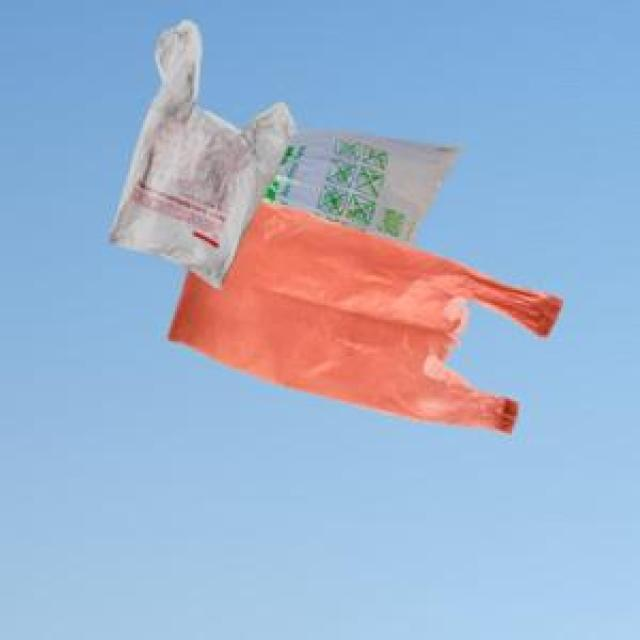waste: (170, 204, 562, 432), (110, 20, 294, 286), (265, 134, 453, 241)
